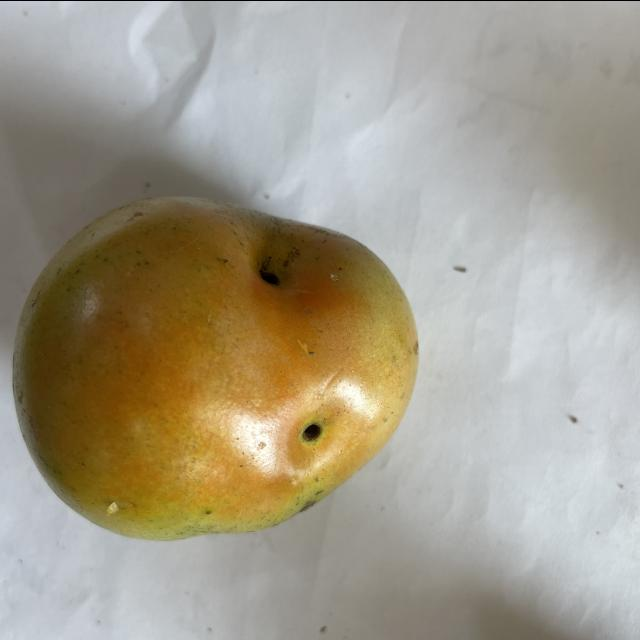fruitworm_bore: (238, 246, 306, 292), (288, 410, 340, 460)
